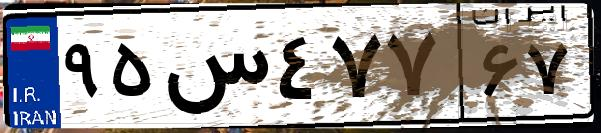4: (270, 28, 330, 110)
5: (110, 28, 158, 98)
6: (475, 38, 525, 113)
7: (385, 28, 445, 110), (330, 28, 385, 110), (525, 38, 570, 115)
9: (57, 26, 110, 100)
س: (158, 20, 270, 120)
